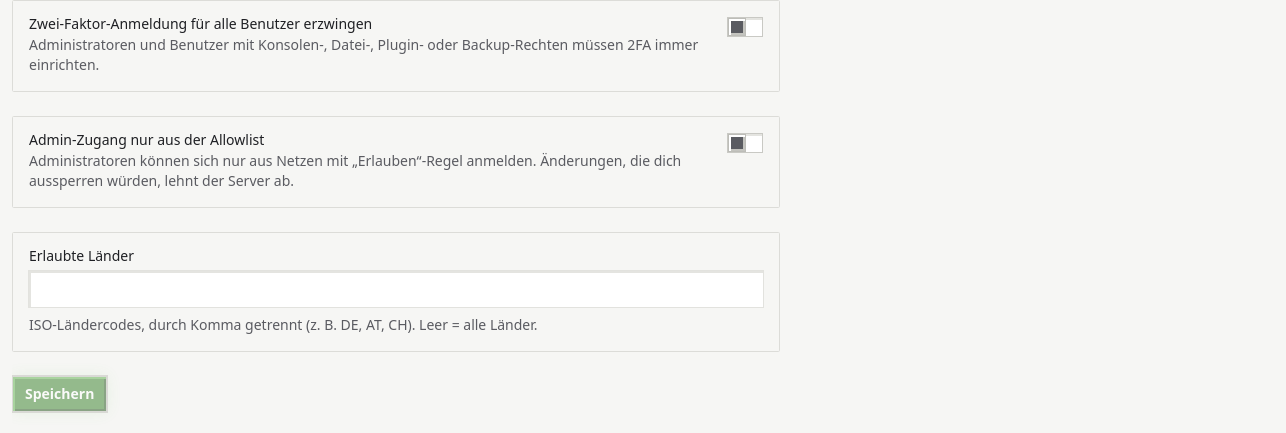
SettingsTab › saves 2FA enforcement and allowed countries
The width and height of the screenshot is (1286, 433).
Check: the button "Speichern" is disabled, box 12,376 -> 107,412
Click the 1st switch named "Zwei-Faktor-Anmeldung für alle Benutzer erzwingen". click: (745, 27)
box: 727,17 -> 763,37
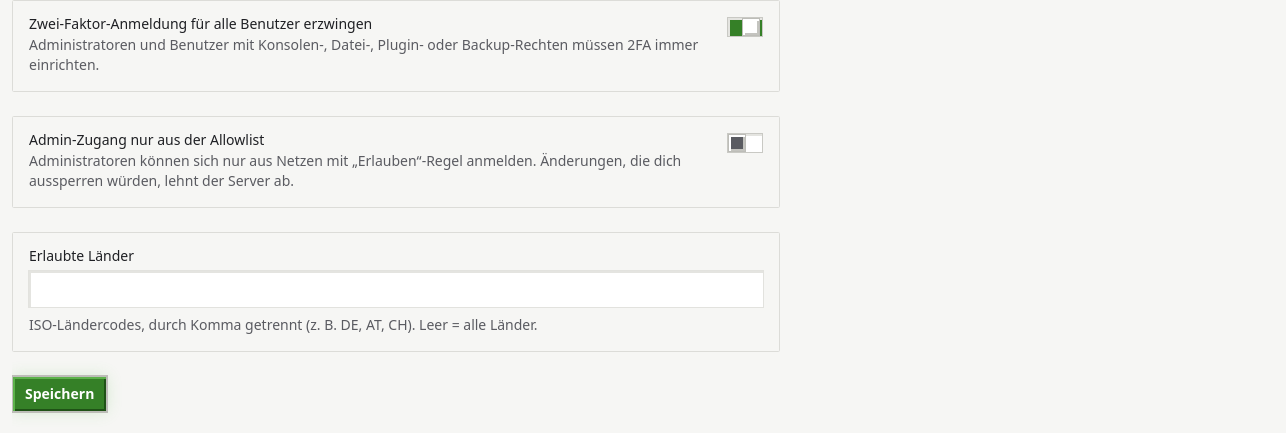
Type "de, at" into the field labelled "Erlaubte Länder". click: (396, 289)
box: 29,271 -> 763,307
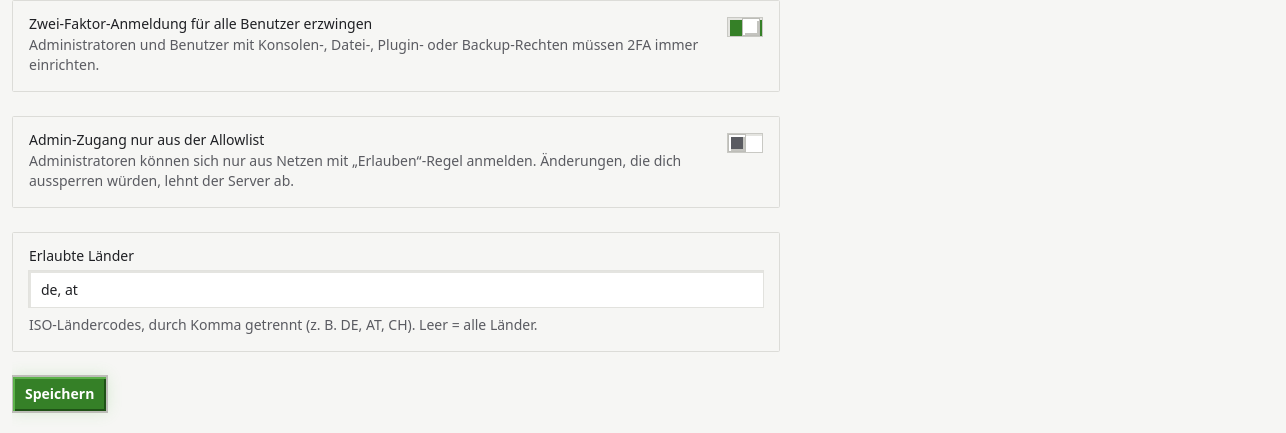
Click the button "Speichern". click: (60, 394)
box: 12,376 -> 107,412
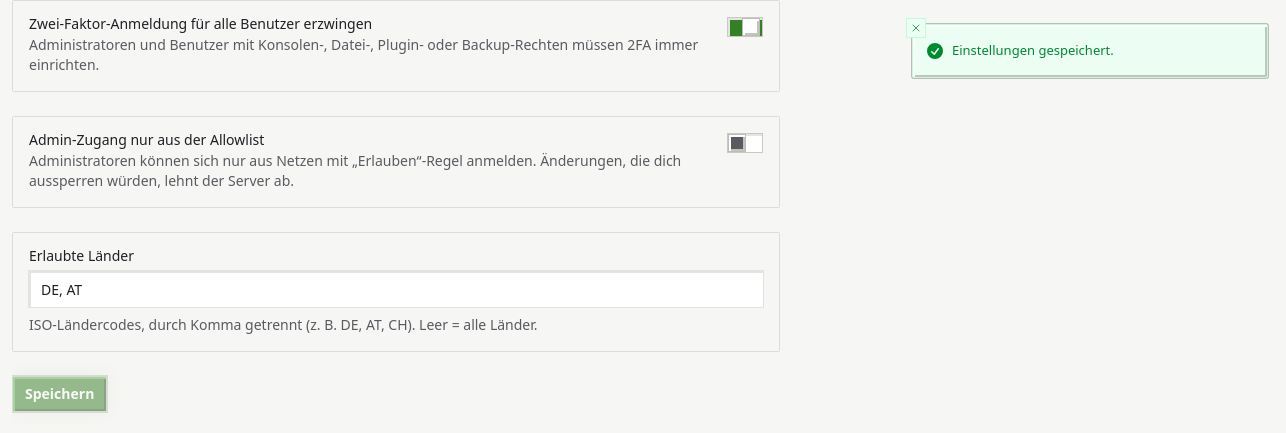
Check: the text "Einstellungen gespeichert." is shown, box 952,41 -> 1114,60
